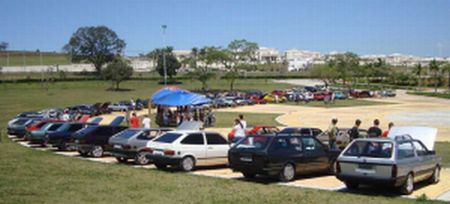Carro: (227, 130, 346, 191), (336, 133, 445, 196), (144, 128, 241, 175), (106, 126, 187, 162), (70, 121, 139, 157), (45, 117, 104, 152)
